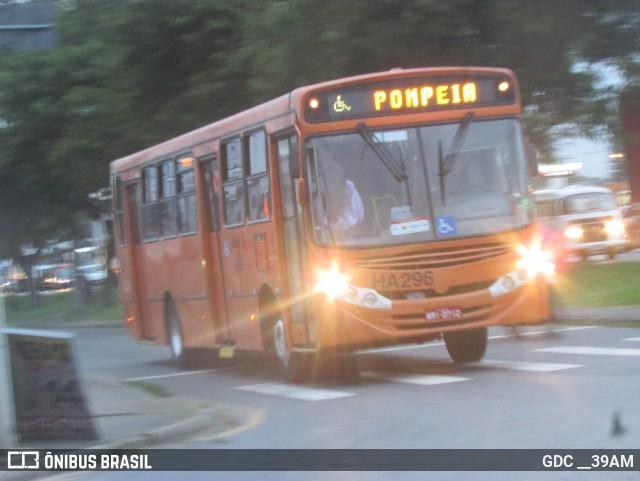POMPEIA: (366, 80, 483, 118)
